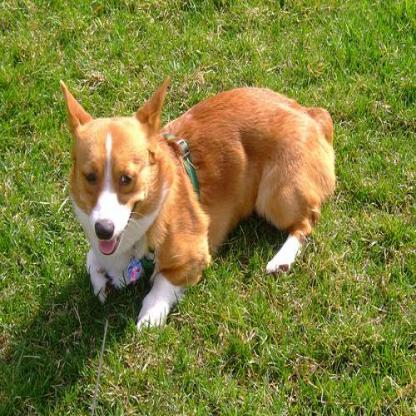Pembroke: (55, 73, 336, 327)
